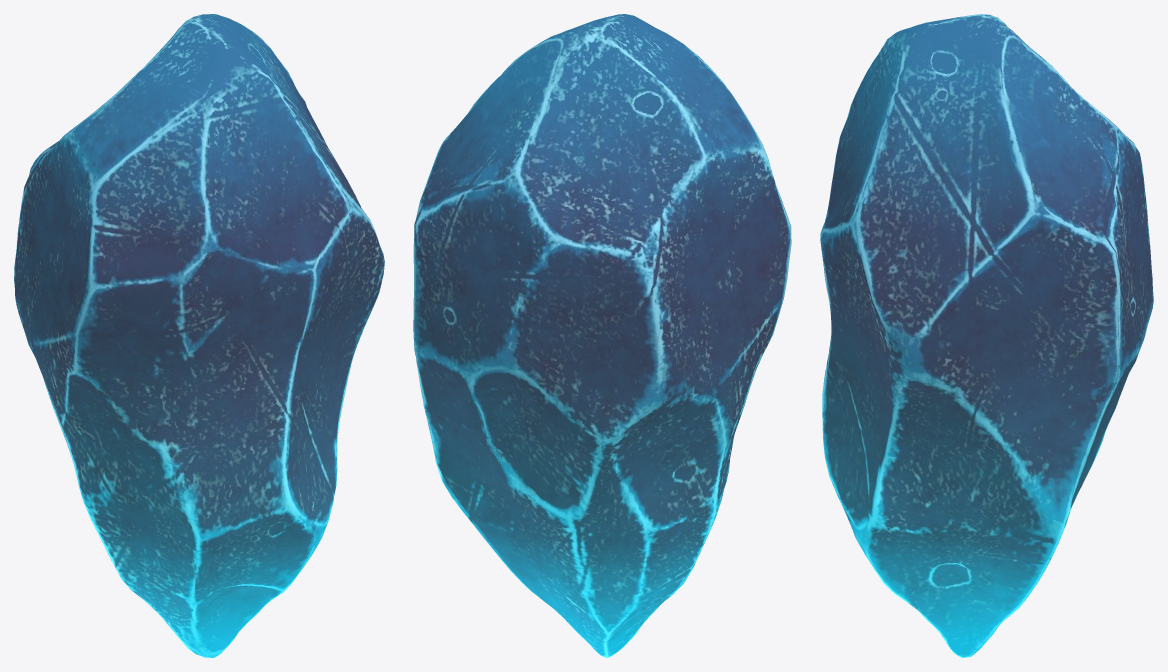
The model's file is shard_enemy.glb.
3 renders of one model, left to right at view 1: azimuth 30°, elevation 25°; view 2: azimuth 150°, elevation 25°; view 3: azimuth 270°, elevation 25°, orthographic.
Parts seen in each view (by area): view 1: PM3D_Sphere3D_2; view 2: PM3D_Sphere3D_2; view 3: PM3D_Sphere3D_2.
Part boxes in pixels (<box>): PM3D_Sphere3D_2: <box>14,14,384,657</box>; PM3D_Sphere3D_2: <box>413,14,791,657</box>; PM3D_Sphere3D_2: <box>820,14,1153,657</box>.
Bounding box in the file's own units: 0.1225 × 0.2438 × 0.1151.
Materials: 1 (1 with a texture image).
